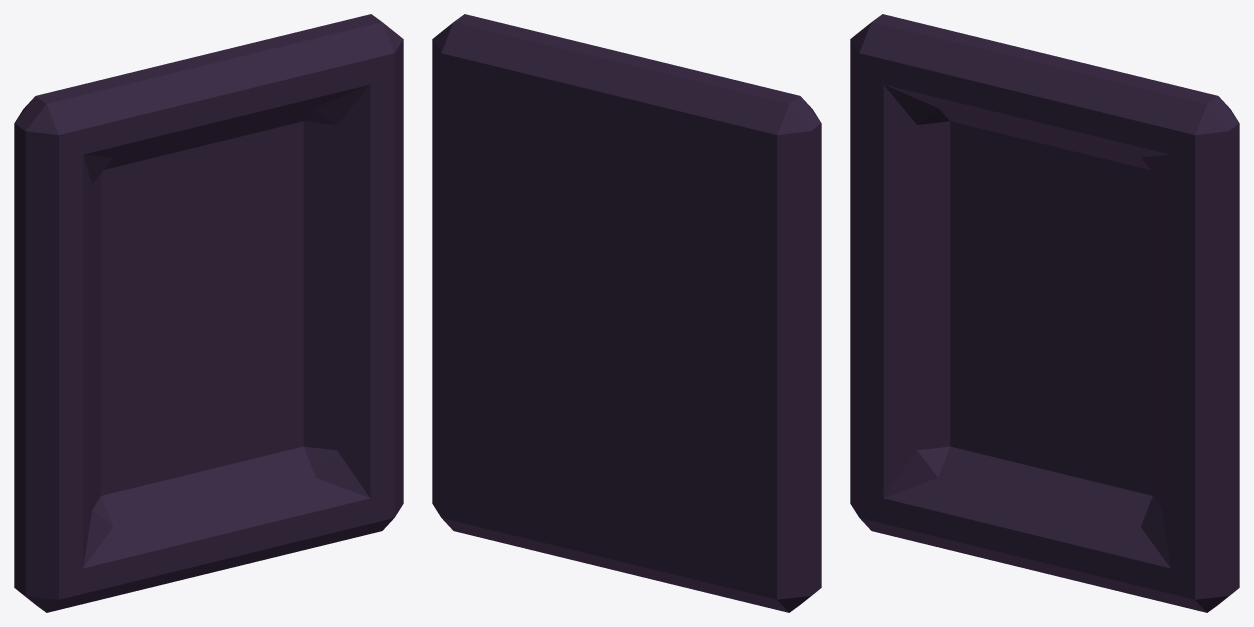
File: Photoframe5.fbx
3 renders of one model, left to right at view 1: azimuth 30°, elevation 25°; view 2: azimuth 150°, elevation 25°; view 3: azimuth 330°, elevation 25°, orthographic.
Parts seen in each view (by area): view 1: Photoframe; view 2: Photoframe; view 3: Photoframe.
Part boxes in pixels (bbox=[...]): Photoframe: bbox=[14, 14, 403, 612]; Photoframe: bbox=[432, 14, 821, 612]; Photoframe: bbox=[850, 14, 1239, 612].
Bounding box in the file's own units: 20.27 × 26.08 × 3.3.
